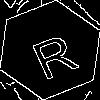R: (25, 25, 80, 81)
